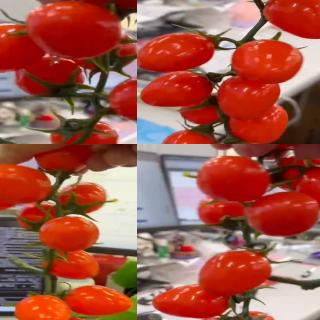tomato: (28, 1, 126, 62), (198, 250, 273, 298), (197, 156, 271, 204), (137, 30, 217, 73), (246, 190, 319, 237), (232, 40, 303, 86), (13, 56, 84, 98), (141, 72, 215, 110), (154, 284, 232, 320), (219, 76, 281, 120), (62, 283, 135, 319), (226, 104, 288, 144), (0, 23, 49, 73), (36, 216, 102, 252), (0, 164, 51, 207), (266, 0, 320, 39), (37, 247, 101, 279), (57, 181, 113, 217), (35, 146, 91, 178), (13, 290, 72, 320), (49, 120, 119, 144), (181, 94, 235, 124), (290, 163, 320, 216), (17, 200, 61, 236), (107, 73, 137, 124), (0, 174, 31, 213), (157, 128, 221, 144), (232, 144, 284, 158), (239, 310, 278, 320)
